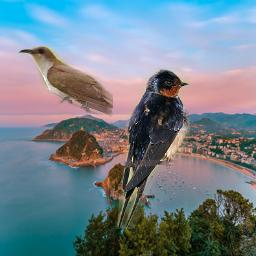Cuckoo: (16, 46, 113, 117)
Swallow: (114, 67, 190, 229)
